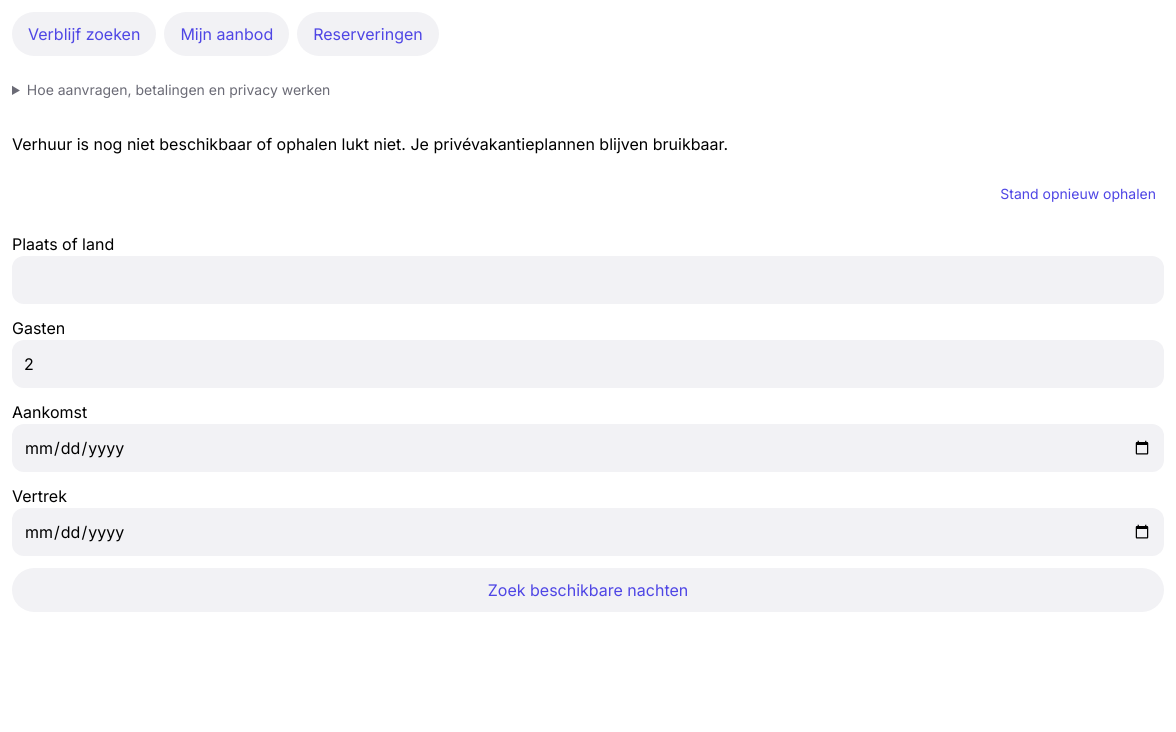
toont eerlijk dat verhuur niet beschikbaar is wanneer ophalen faalt
Expected: the message shows "nog niet beschikbaar", [12,134,728,154]
Step 1. Click the button "Mijn aanbod" → (227,34), box [164,12,289,56]
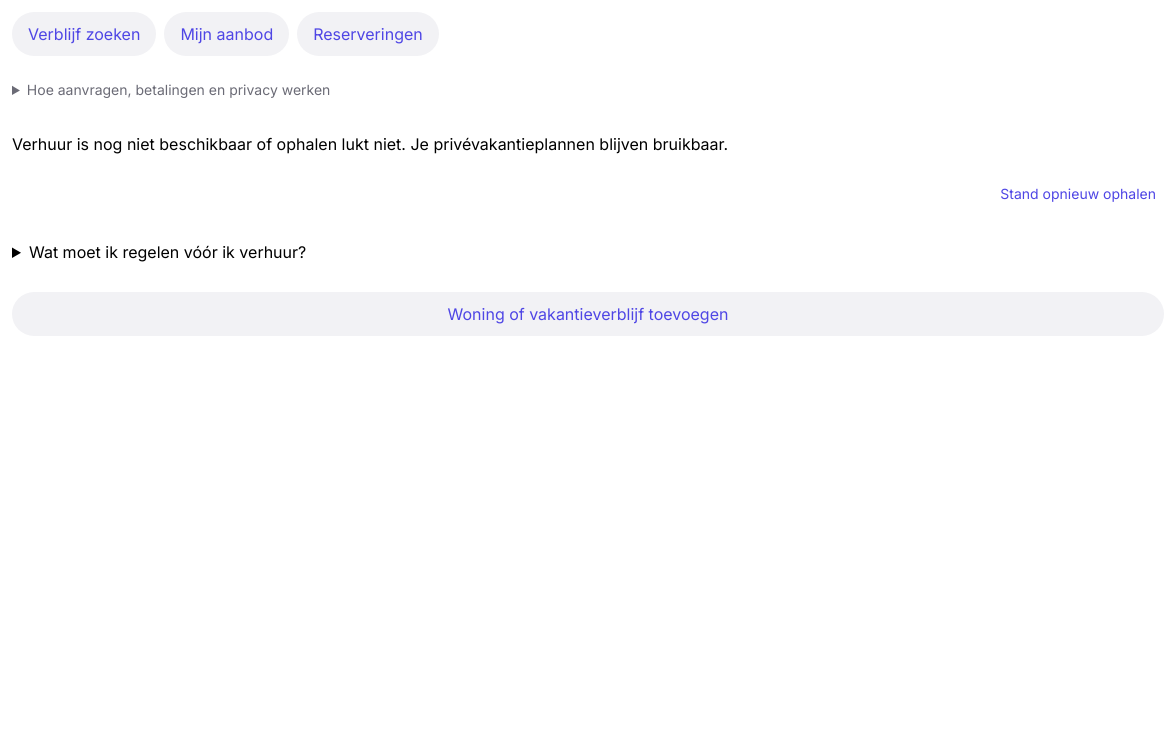
Now the button "Woning of vakantieverblijf toevoegen" is disabled, box [12,292,1164,336]
